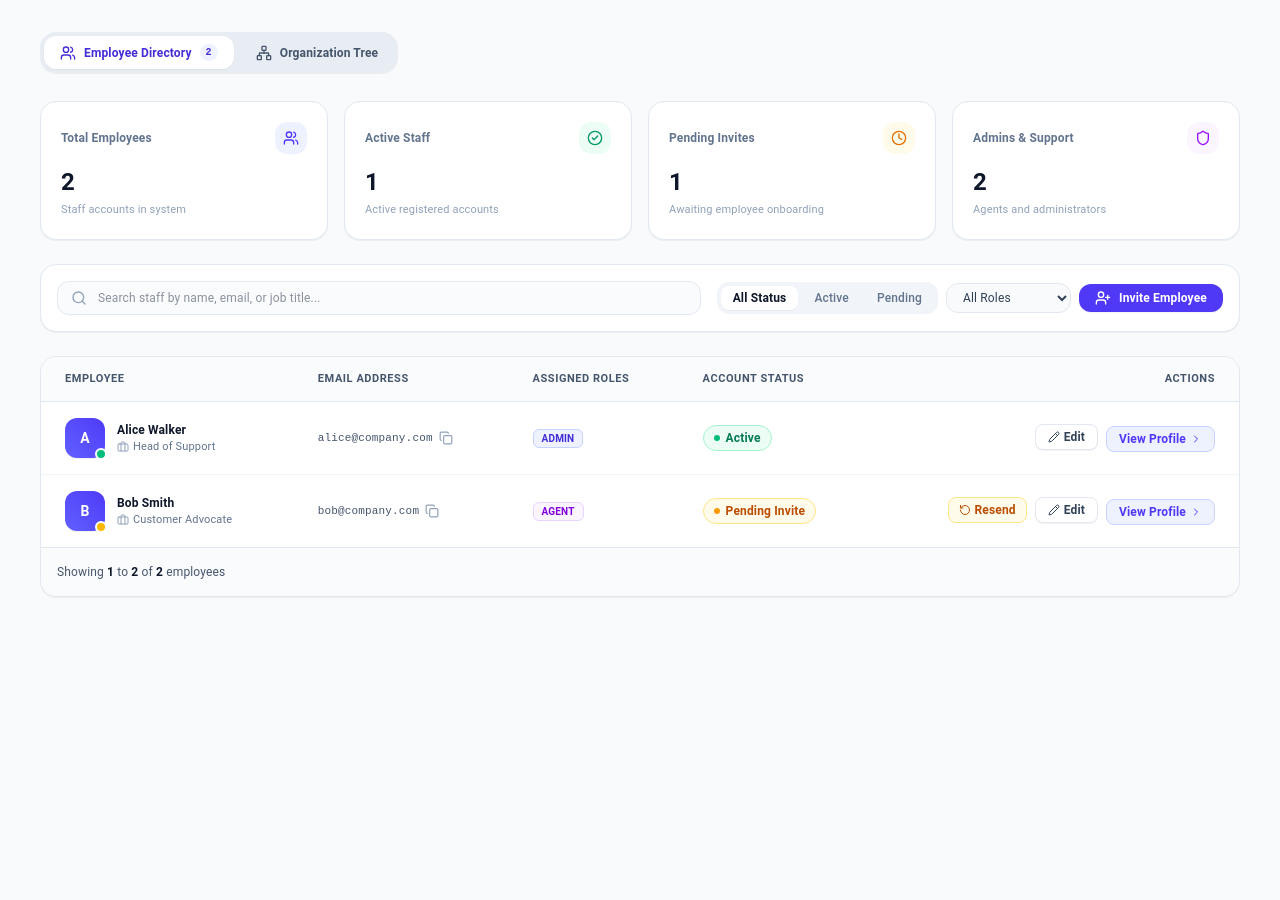
Test: EmployeeManagementPage Component › switches between Employee Directory and Organization Tree tabs
The width and height of the screenshot is (1280, 900).
Check: the text "Employee Directory" is shown, box [84,45,192,61]
Check: the text "Organization Tree" is shown, box [280,45,378,61]
Switch to Organization Tree
What coordinates should you click on to do the following:
click the button "Organization Tree"
I would click on:
 (317, 53)
Its box is [240,37,394,69].
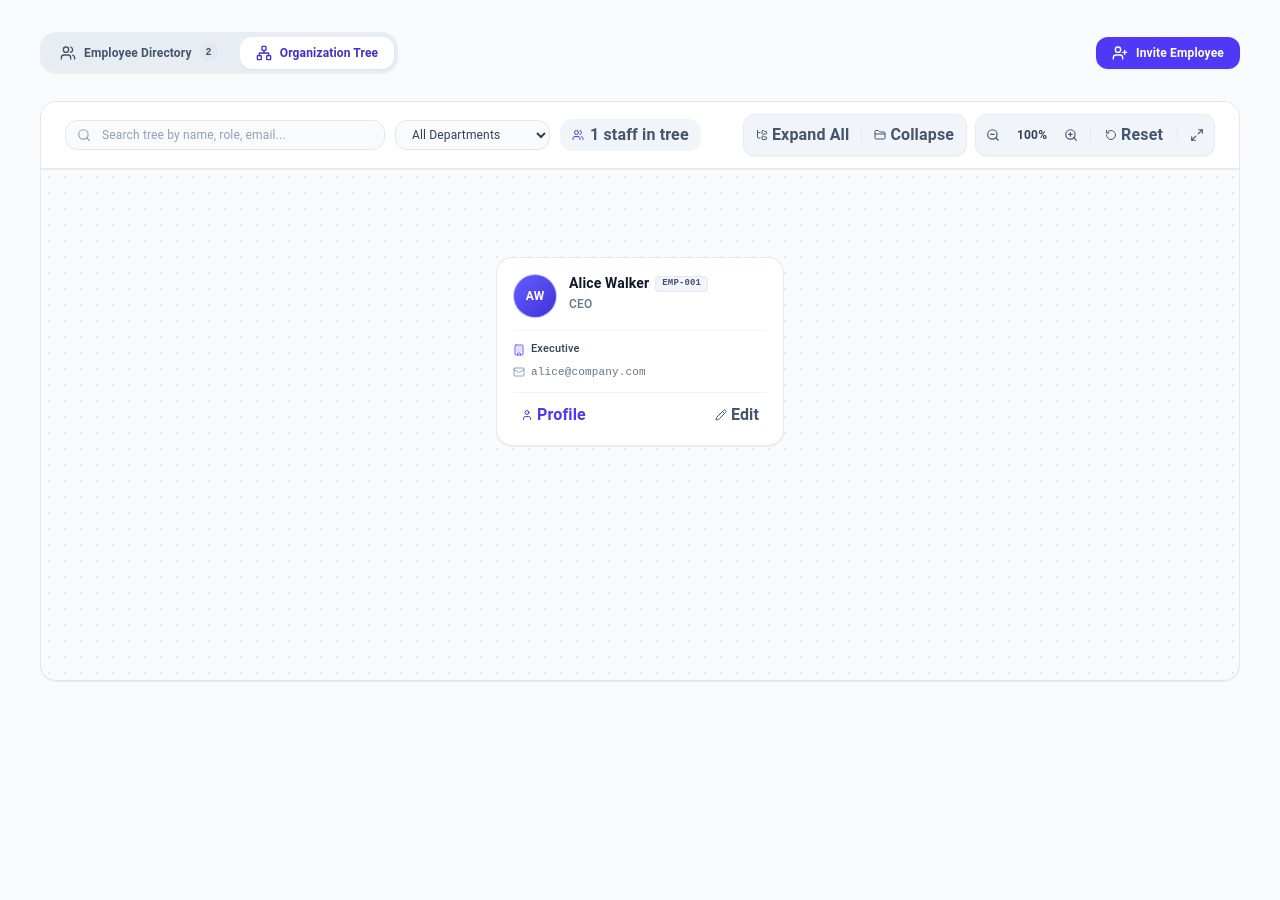
Check: the field with placeholder "Search tree by name, role, email..." is shown, box [65,120,385,150]
Check: the button "Expand All" is shown, box [748,119,857,151]
Switch back to Employee Directory
What coordinates should you click on to do the following:
click the button "Employee Directory 2"
I would click on:
 (139, 53)
Its box is [44,36,234,69].
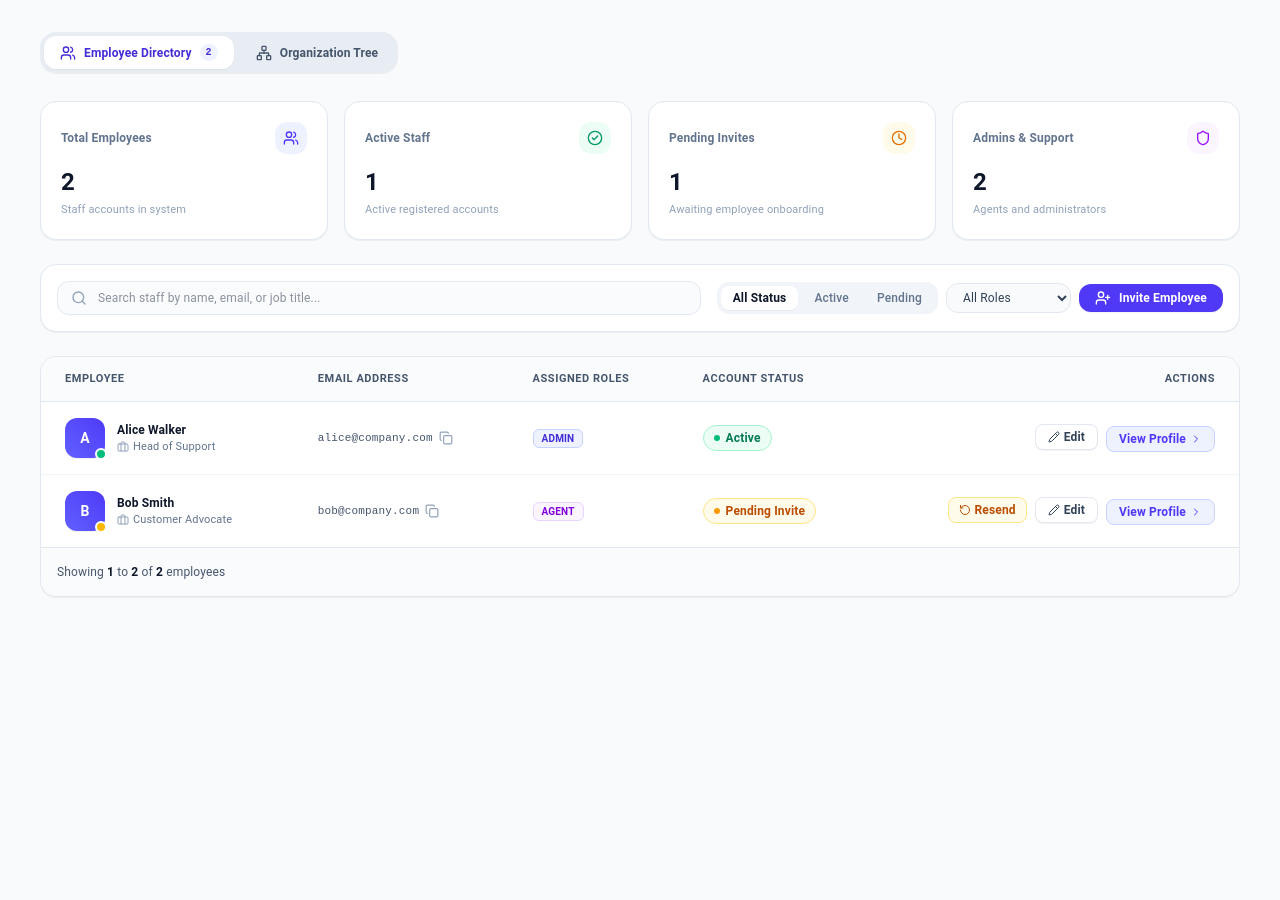
Check: the text "Total Employees" is shown, box [61,130,152,146]
